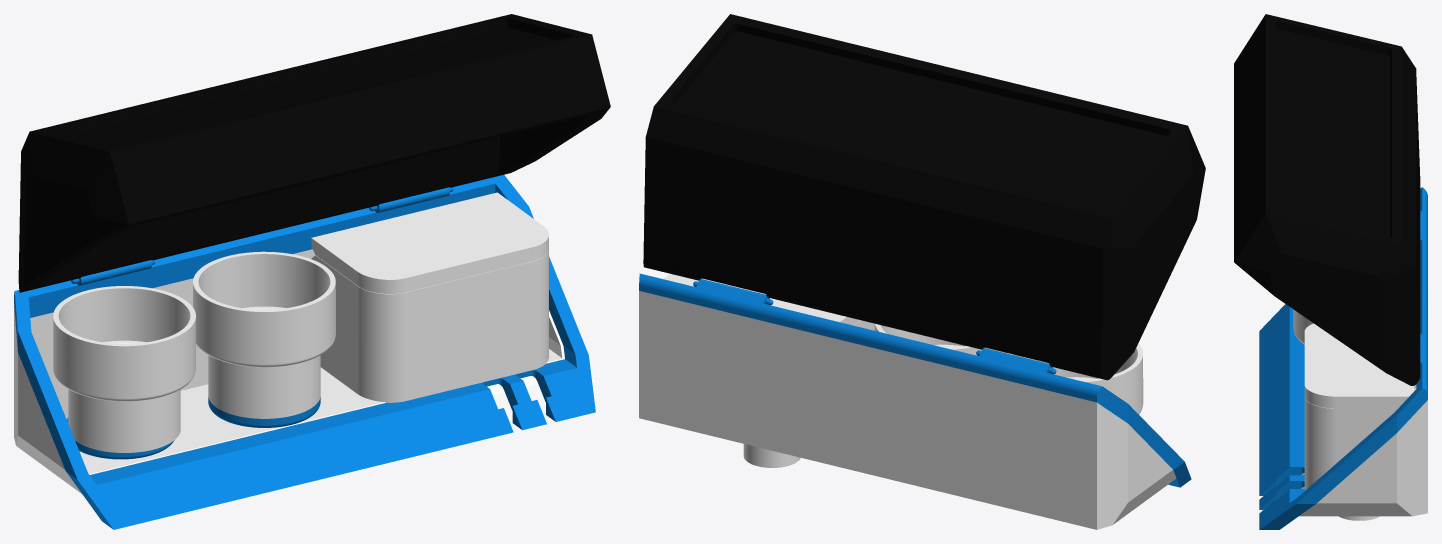
Rendered from sp2 dve animation oop.glb.
3 renders of one model, left to right at view 1: azimuth 30°, elevation 25°; view 2: azimuth 150°, elevation 25°; view 3: azimuth 270°, elevation 25°, orthographic. The views are drawn at different scales.
Parts seen in each view (by area): view 1: Default_F242FD89_F563_4C78_B2BE_EF374EB46367_, Default_3A6377EA_8928_4010_825E_F35E6D3ECE56_, Default_0F05A3C0_C240_449B_8DEF_38D4D7C79C96_, Default_70B36A46_8C05_4CD2_8E0B_002546DF59B1_, Default_0CC06295_5172_4832_B3A9_EDF41557AFD6_, Layer_01_E31F888F_E752_4BF8_9B68_8456BB9988E8_, Default_435E7F2D_E64F_483D_B2AC_8ECBCA78B99E_, Default_80436E60_0DA0_40E1_B132_B9B8B7342DBD_; view 2: Default_F242FD89_F563_4C78_B2BE_EF374EB46367_, Default_435E7F2D_E64F_483D_B2AC_8ECBCA78B99E_, Default_3A6377EA_8928_4010_825E_F35E6D3ECE56_, Default_70B36A46_8C05_4CD2_8E0B_002546DF59B1_, Default_0F05A3C0_C240_449B_8DEF_38D4D7C79C96_, Layer_01_E31F888F_E752_4BF8_9B68_8456BB9988E8_, Default_0CC06295_5172_4832_B3A9_EDF41557AFD6_; view 3: Default_F242FD89_F563_4C78_B2BE_EF374EB46367_, Default_3A6377EA_8928_4010_825E_F35E6D3ECE56_, Default_435E7F2D_E64F_483D_B2AC_8ECBCA78B99E_, Layer_01_E31F888F_E752_4BF8_9B68_8456BB9988E8_, Default_0F05A3C0_C240_449B_8DEF_38D4D7C79C96_, Default_0CC06295_5172_4832_B3A9_EDF41557AFD6_.
Boxes of the visible parts, box(x1,y1,x2,y2) form: Default_F242FD89_F563_4C78_B2BE_EF374EB46367_: box(18, 14, 610, 292); Default_3A6377EA_8928_4010_825E_F35E6D3ECE56_: box(14, 175, 595, 529); Default_0F05A3C0_C240_449B_8DEF_38D4D7C79C96_: box(311, 250, 548, 402); Default_70B36A46_8C05_4CD2_8E0B_002546DF59B1_: box(53, 286, 195, 452); Default_0CC06295_5172_4832_B3A9_EDF41557AFD6_: box(193, 251, 335, 418); Layer_01_E31F888F_E752_4BF8_9B68_8456BB9988E8_: box(311, 192, 548, 293); Default_435E7F2D_E64F_483D_B2AC_8ECBCA78B99E_: box(14, 249, 564, 493); Default_80436E60_0DA0_40E1_B132_B9B8B7342DBD_: box(208, 397, 320, 427); Default_F242FD89_F563_4C78_B2BE_EF374EB46367_: box(643, 14, 1205, 380); Default_435E7F2D_E64F_483D_B2AC_8ECBCA78B99E_: box(639, 291, 1176, 529); Default_3A6377EA_8928_4010_825E_F35E6D3ECE56_: box(639, 273, 1191, 487); Default_70B36A46_8C05_4CD2_8E0B_002546DF59B1_: box(1007, 343, 1143, 414); Default_0F05A3C0_C240_449B_8DEF_38D4D7C79C96_: box(743, 320, 874, 467); Layer_01_E31F888F_E752_4BF8_9B68_8456BB9988E8_: box(663, 273, 860, 325); Default_0CC06295_5172_4832_B3A9_EDF41557AFD6_: box(874, 323, 1007, 355); Default_F242FD89_F563_4C78_B2BE_EF374EB46367_: box(1234, 14, 1420, 385); Default_3A6377EA_8928_4010_825E_F35E6D3ECE56_: box(1259, 187, 1427, 529); Default_435E7F2D_E64F_483D_B2AC_8ECBCA78B99E_: box(1299, 388, 1427, 516); Layer_01_E31F888F_E752_4BF8_9B68_8456BB9988E8_: box(1304, 323, 1416, 408); Default_0F05A3C0_C240_449B_8DEF_38D4D7C79C96_: box(1304, 398, 1397, 520); Default_0CC06295_5172_4832_B3A9_EDF41557AFD6_: box(1293, 309, 1313, 344).
Size of the model in its own units: 214 by 160 by 83.11.
